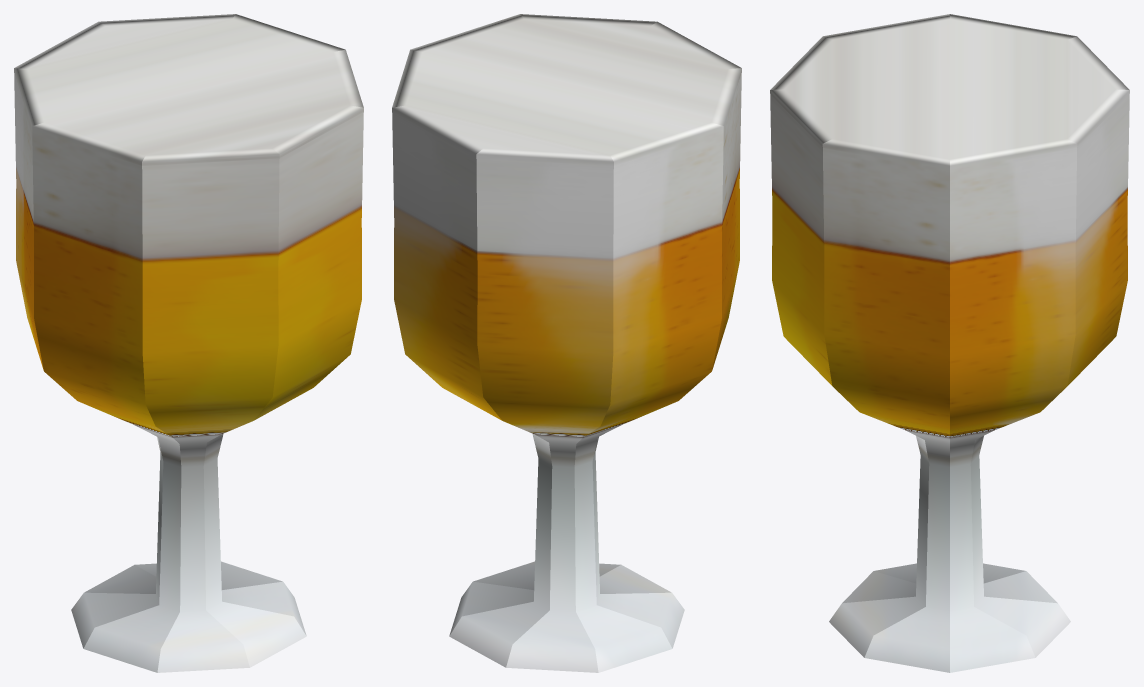
The model's file is beer9m.fbx.
3 views of the same model, side by side, from view 1: azimuth 30°, elevation 25°; view 2: azimuth 150°, elevation 25°; view 3: azimuth 270°, elevation 25° (orthographic).
Visible parts, largest first — view 1: pCylinder7; view 2: pCylinder7; view 3: pCylinder7.
Part boxes in pixels (x1,y1,x2,y2): pCylinder7: (14,14,363,672); pCylinder7: (392,14,741,672); pCylinder7: (770,14,1129,672).
Bounding box in the file's own units: 1.96 × 3.2 × 1.96.
1 material, 1 textured.
